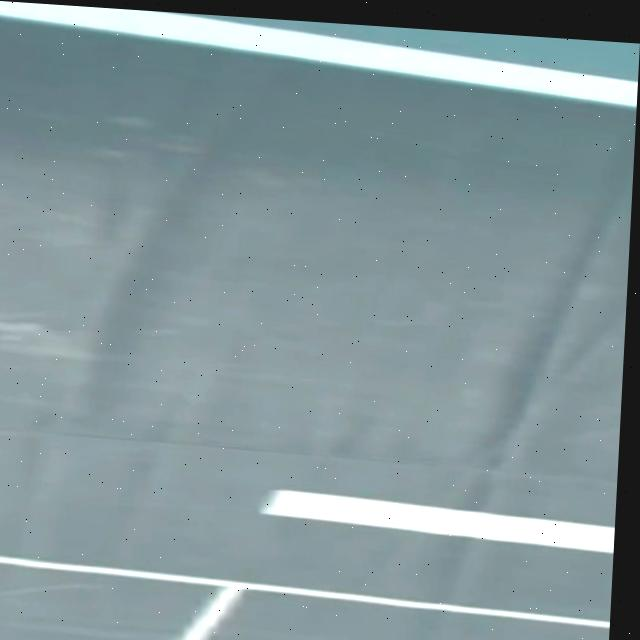center: (262, 490, 615, 551)
left: (0, 0, 638, 106)
